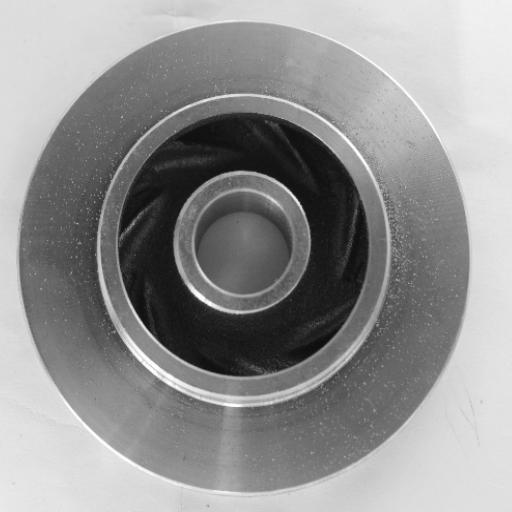polished_casting: (17, 19, 472, 497)
